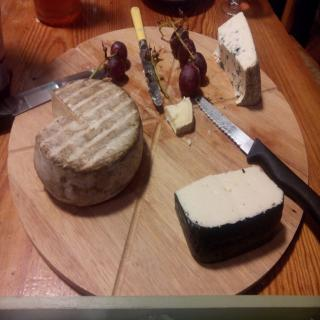Cheese: (33, 78, 146, 207), (174, 163, 285, 264), (214, 10, 262, 106), (164, 97, 192, 135)
